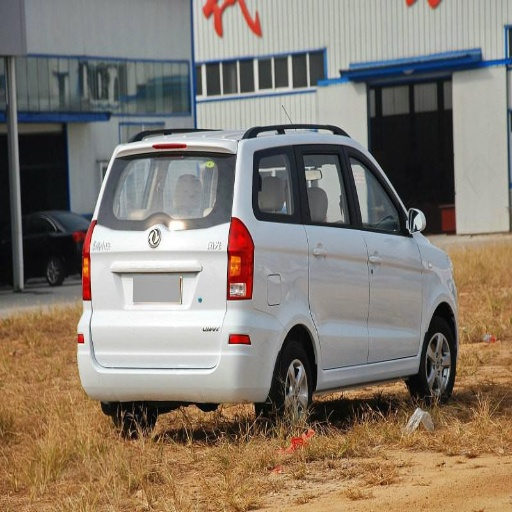back_bumper: (79, 301, 283, 400)
back_right_door: (258, 145, 367, 369)
tailgate: (98, 214, 216, 240)
trunk: (84, 221, 231, 360)
